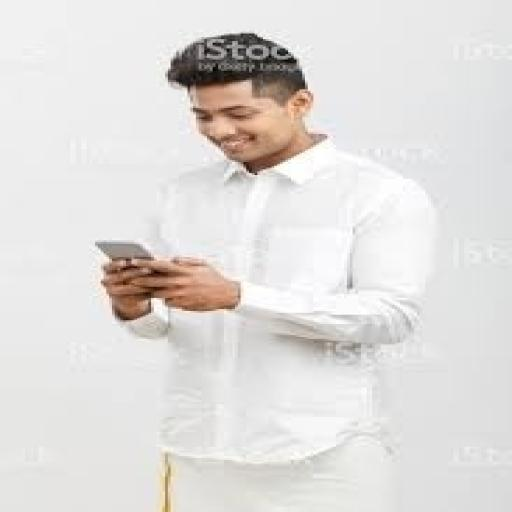texting: (92, 30, 440, 510)
